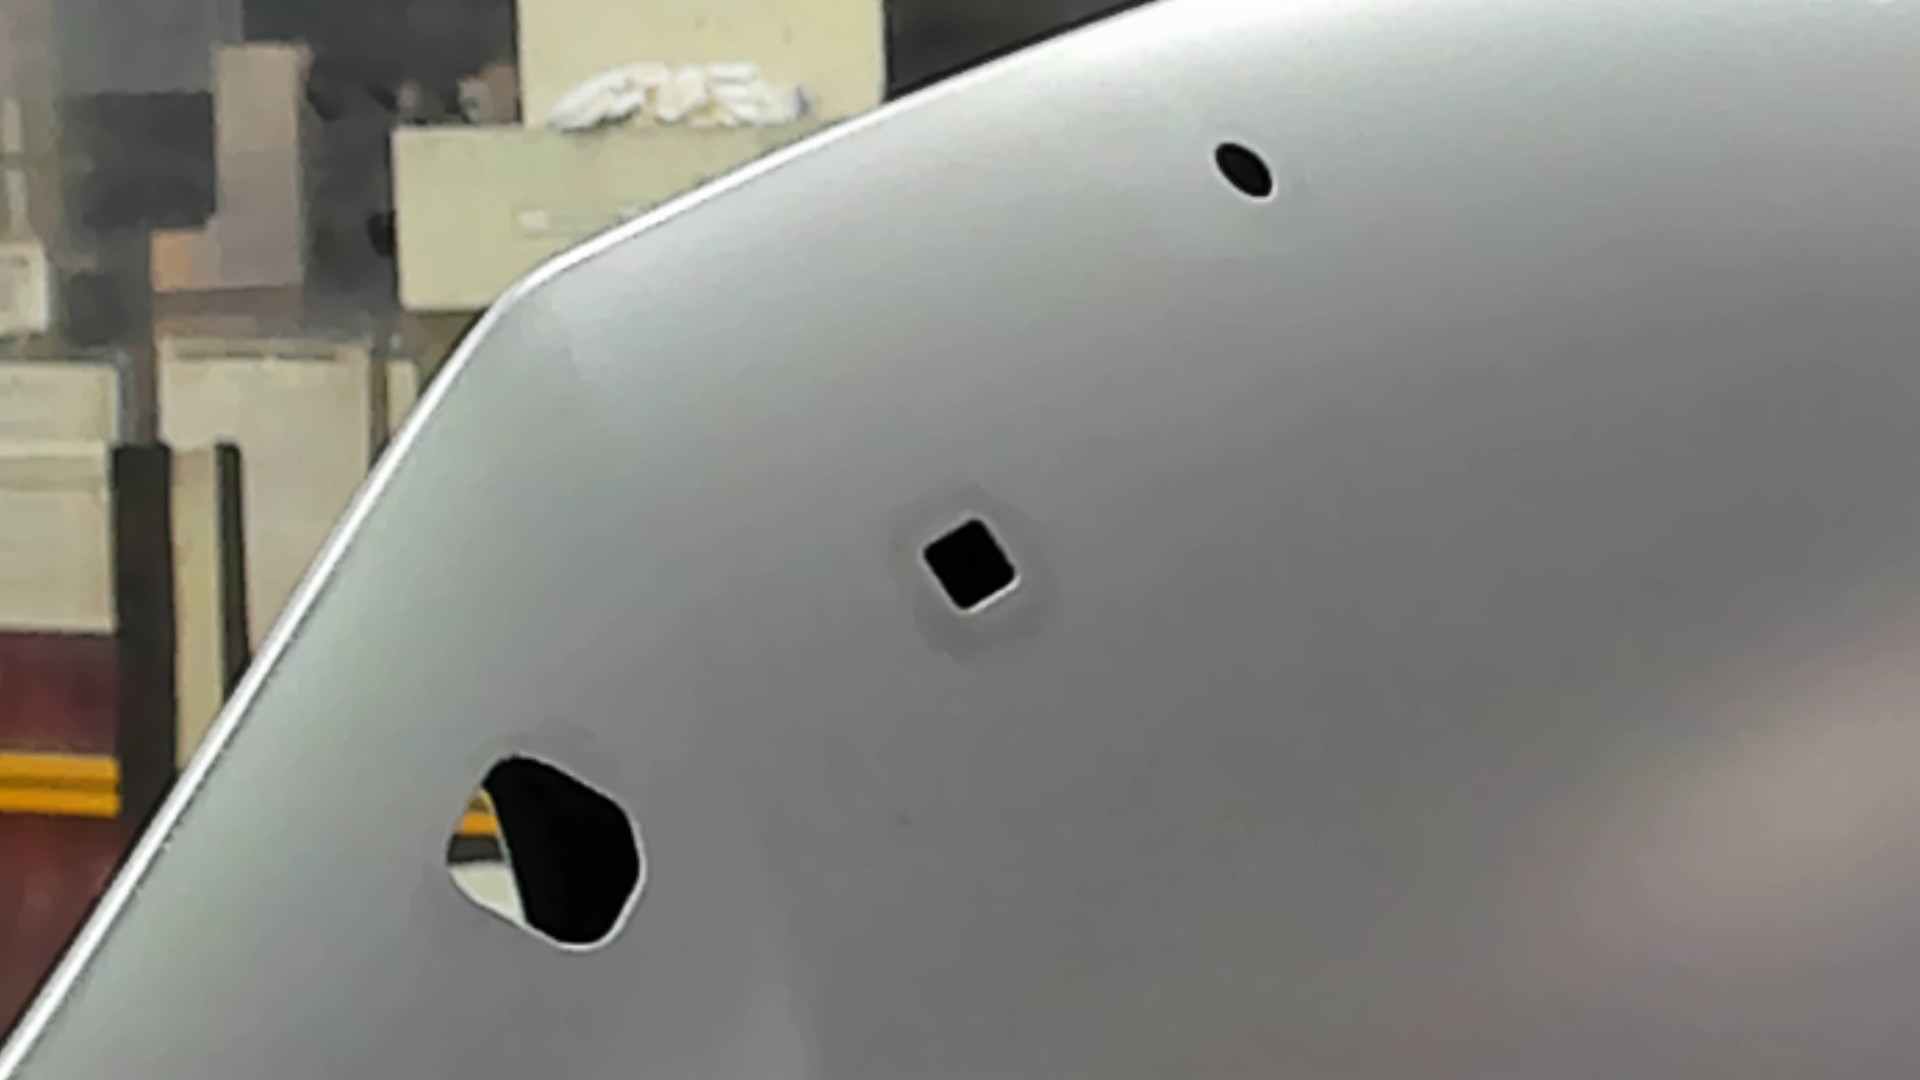capo: (1029, 206, 1920, 1080)
chico: (1209, 133, 1278, 199)
grande: (439, 746, 655, 957)
mediano: (918, 514, 1027, 617)
